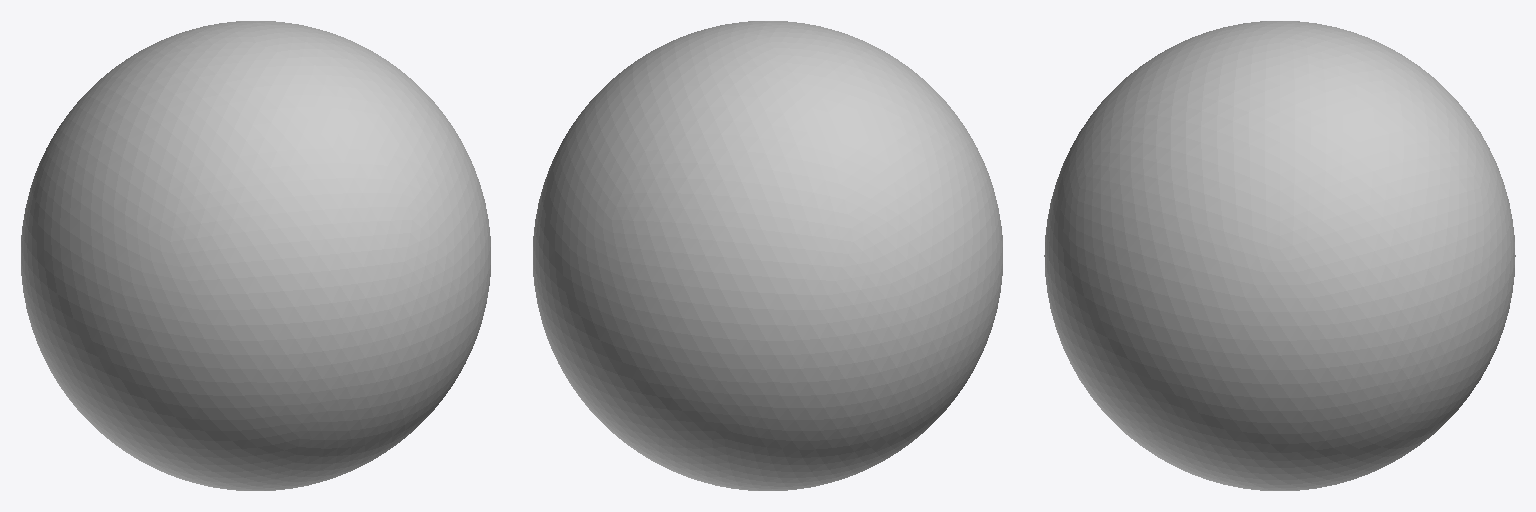
The model's file is level5.obj.
3 views of the same model, side by side, from view 1: azimuth 30°, elevation 25°; view 2: azimuth 150°, elevation 25°; view 3: azimuth 270°, elevation 25° (orthographic).
Parts seen in each view (by area): view 1: Icosphere; view 2: Icosphere; view 3: Icosphere.
Boxes of the visible parts, box(x1,y1,x2,y2) form: Icosphere: box(21, 21, 490, 490); Icosphere: box(533, 21, 1002, 490); Icosphere: box(1044, 21, 1515, 490).
Size of the model in its own units: 2 by 2 by 2.